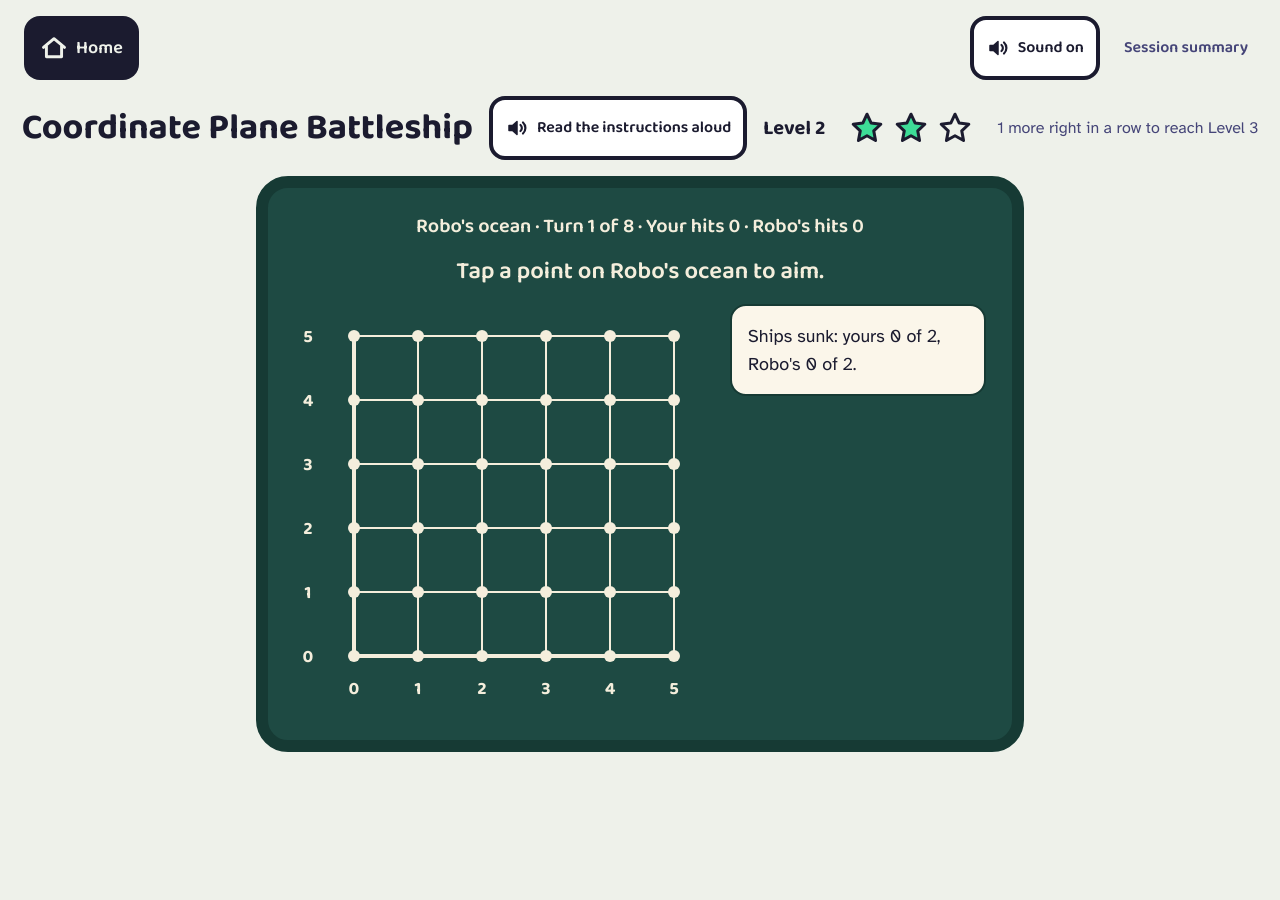
it: the end shows See who won, then the hits, the winner and Play again
Click the button named "Point (3, 5)" at (546, 336), box [514, 304, 578, 368]
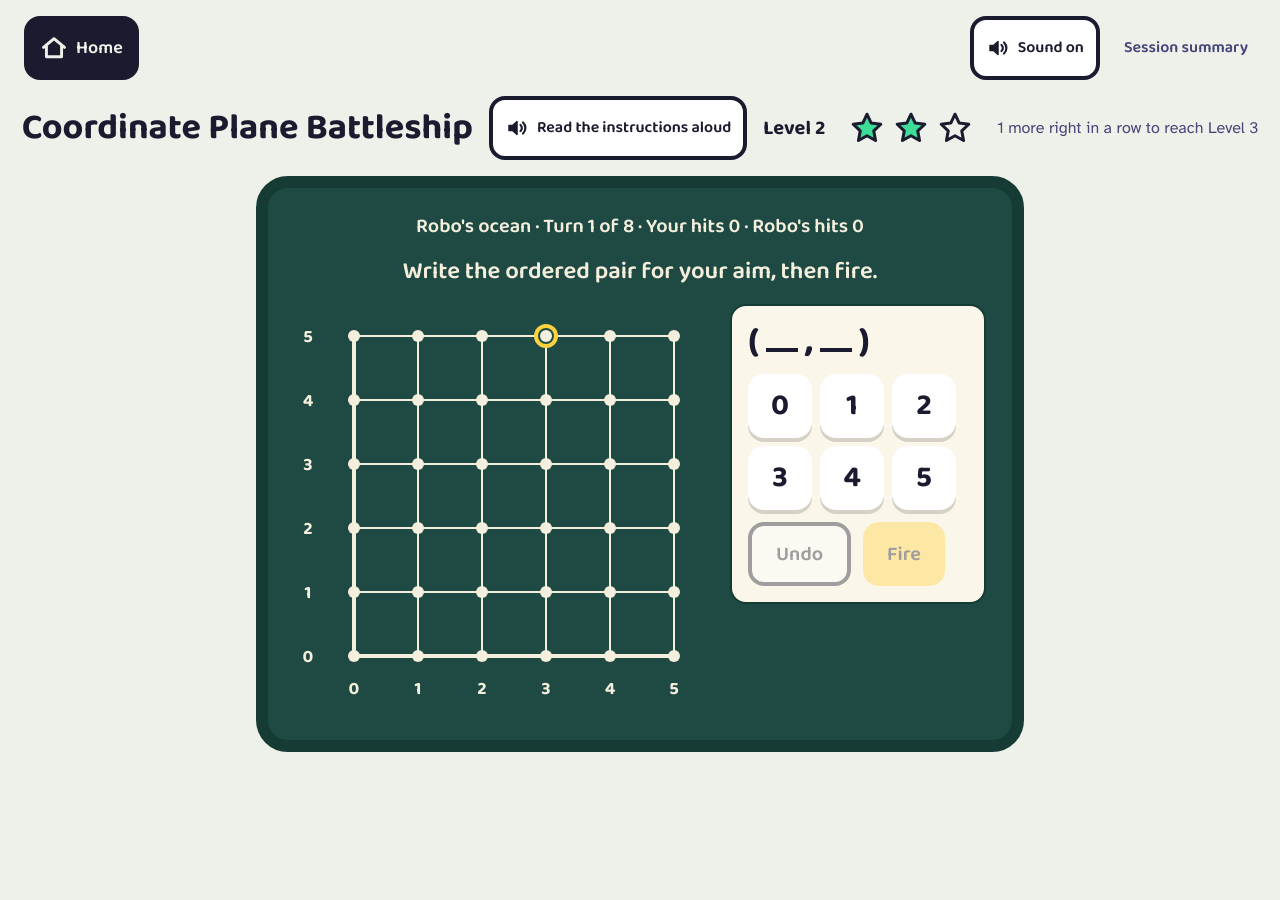
Expected: the text "Write the ordered pair for your aim, then fire." is shown, [403, 256, 877, 288]
Click the button "3" at (780, 478), box [748, 446, 812, 510]
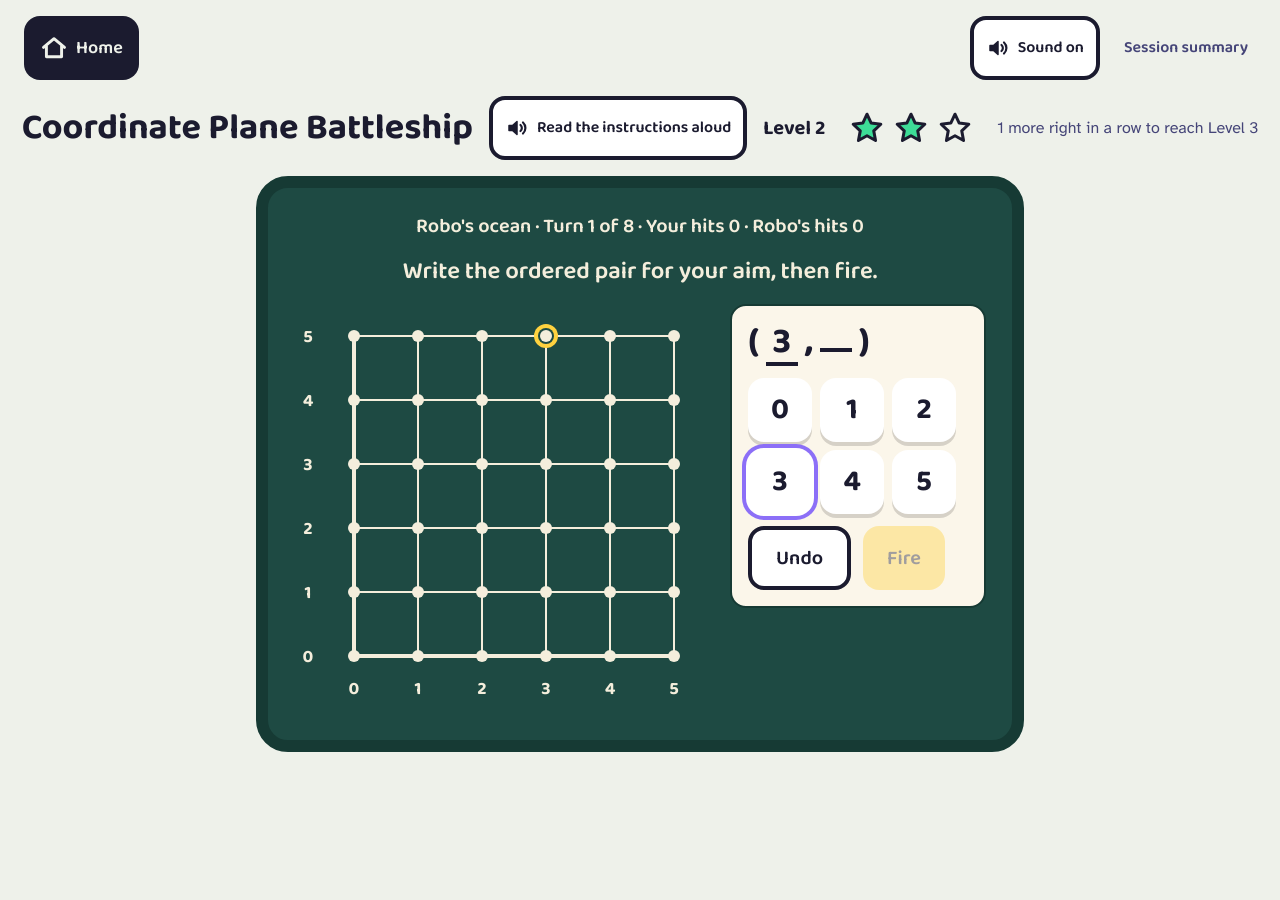
Click the button "5" at (924, 482), box [892, 450, 956, 514]
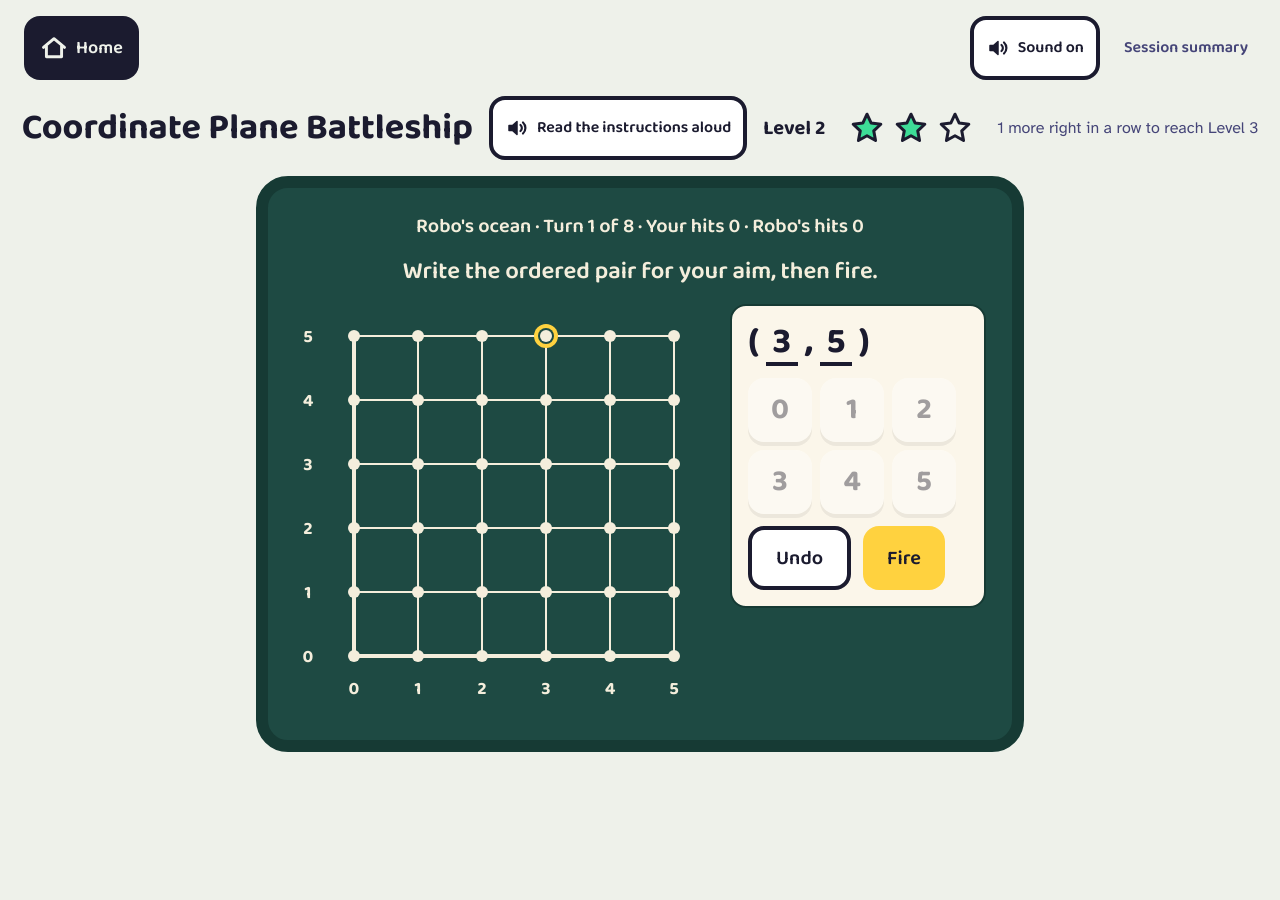
Click the button "Fire" at (904, 558), box [863, 526, 945, 590]
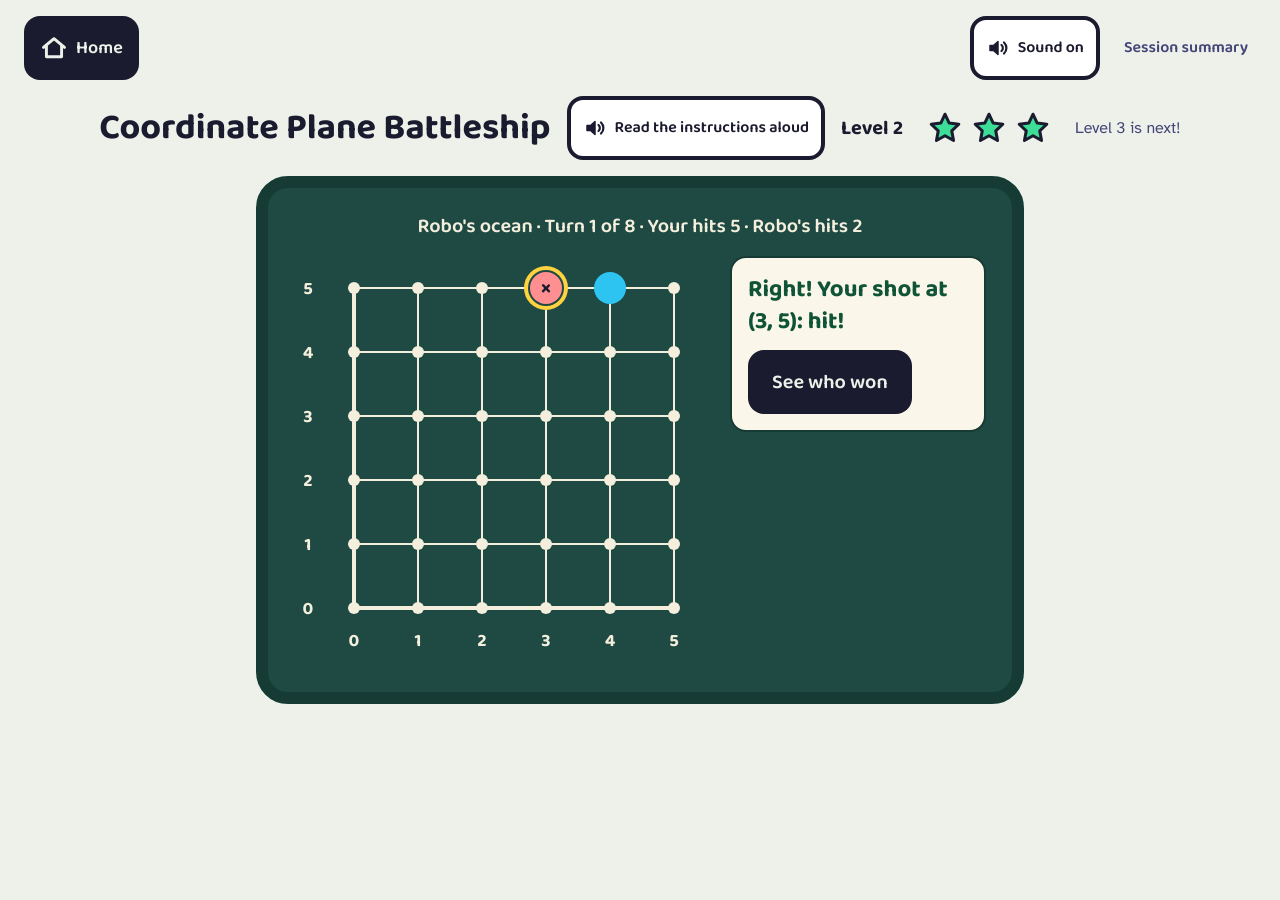
Expected: the text "Right! Your shot at (3, 5): hit!" is shown, [748, 274, 968, 338]
Click the button "See who won" at (830, 382), box [748, 350, 912, 414]
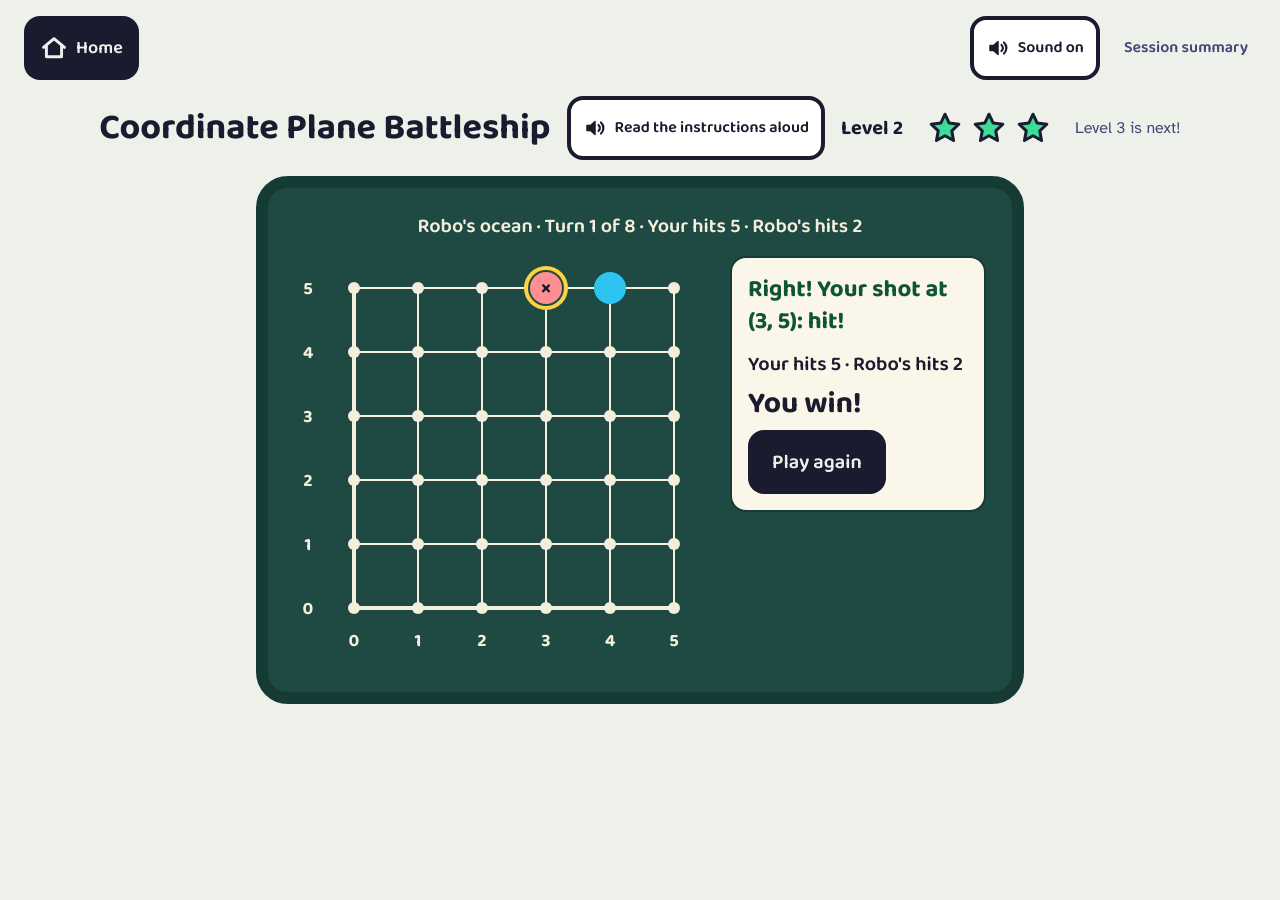
Expected: the text "Your hits 5 · Robo's hits 2" is shown, [748, 350, 963, 378]
Expected: the text "You win!" is shown, [748, 386, 862, 422]
Click the button "Play again" at (817, 462), box [748, 430, 886, 494]
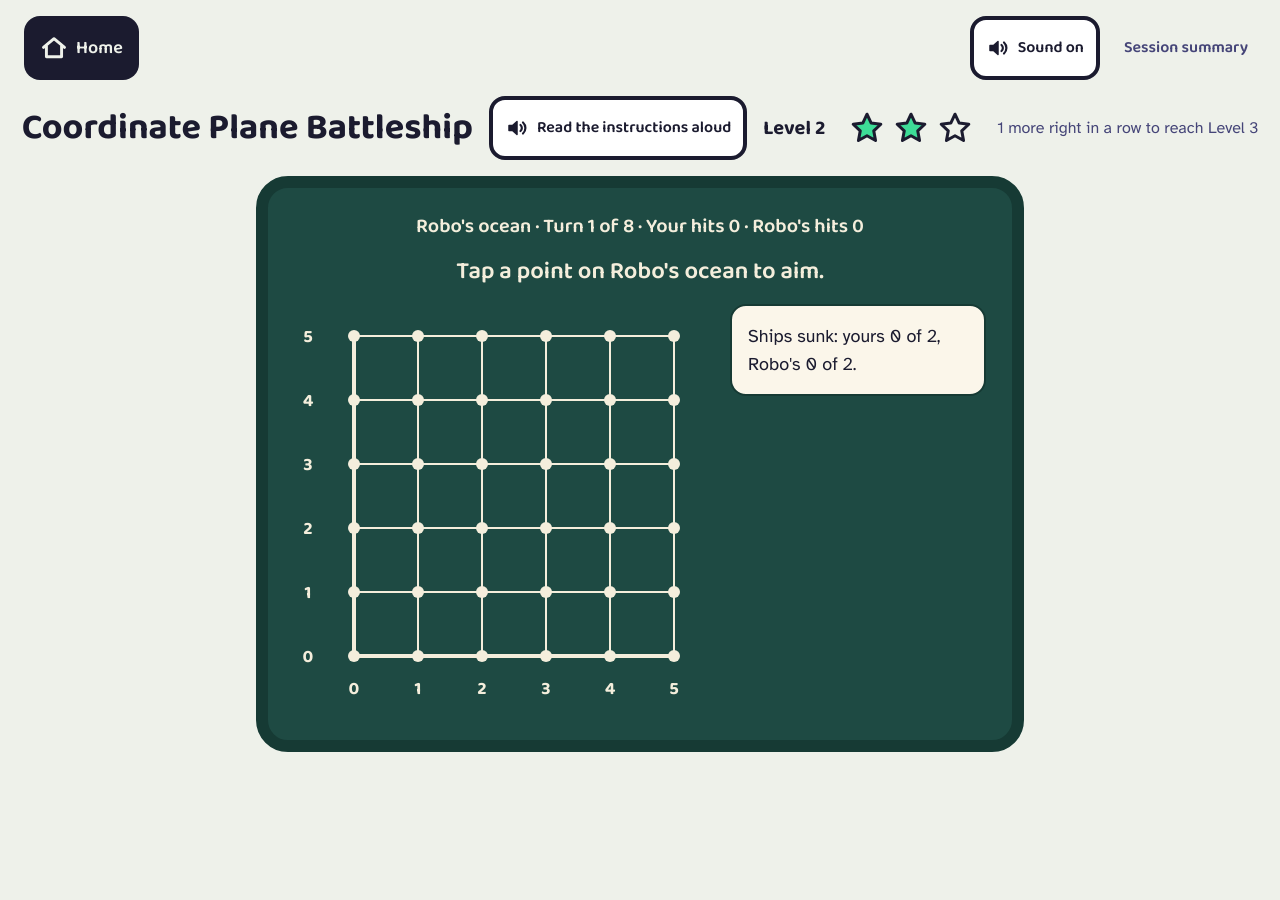
Expected: the text "Tap a point on Robo's ocean to aim." is shown, [456, 256, 824, 288]
